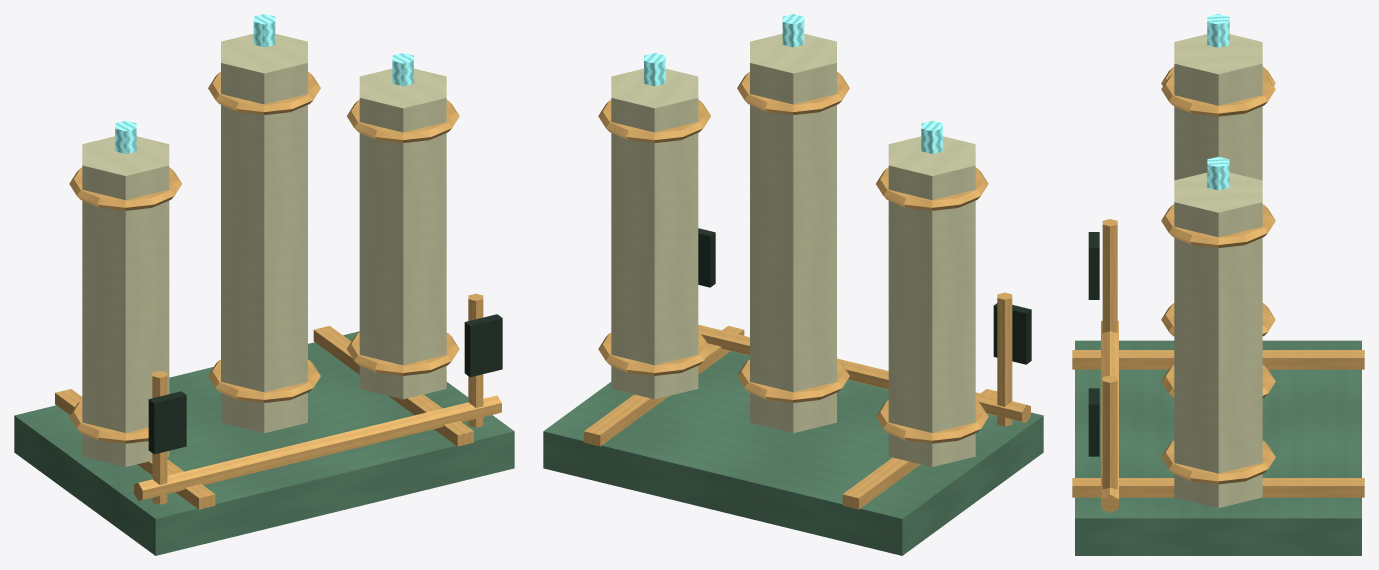
The model's file is atlas100-s001-a01.lod1.glb.
3 renders of one model, left to right at view 1: azimuth 30°, elevation 25°; view 2: azimuth 150°, elevation 25°; view 3: azimuth 270°, elevation 25°, orthographic.
Visible parts, largest first — view 1: atlas100-s001-a01:part-000, atlas100-s001-a01:part-007, atlas100-s001-a01:part-011, atlas100-s001-a01:part-003, atlas100-s001-a01:part-019, atlas100-s001-a01:part-002, atlas100-s001-a01:part-016, atlas100-s001-a01:part-018, atlas100-s001-a01:part-005, atlas100-s001-a01:part-013, atlas100-s001-a01:part-012, atlas100-s001-a01:part-009 (+8 smaller); view 2: atlas100-s001-a01:part-000, atlas100-s001-a01:part-007, atlas100-s001-a01:part-003, atlas100-s001-a01:part-011, atlas100-s001-a01:part-019, atlas100-s001-a01:part-002, atlas100-s001-a01:part-015, atlas100-s001-a01:part-001, atlas100-s001-a01:part-004, atlas100-s001-a01:part-005, atlas100-s001-a01:part-013, atlas100-s001-a01:part-012 (+7 smaller); view 3: atlas100-s001-a01:part-000, atlas100-s001-a01:part-011, atlas100-s001-a01:part-007, atlas100-s001-a01:part-002, atlas100-s001-a01:part-001, atlas100-s001-a01:part-017, atlas100-s001-a01:part-015, atlas100-s001-a01:part-009, atlas100-s001-a01:part-012, atlas100-s001-a01:part-013, atlas100-s001-a01:part-019, atlas100-s001-a01:part-018 (+5 smaller).
Boxes of the visible parts, <box> form: atlas100-s001-a01:part-000: <box>14,331,514,555</box>; atlas100-s001-a01:part-007: <box>221,33,307,433</box>; atlas100-s001-a01:part-011: <box>359,68,446,399</box>; atlas100-s001-a01:part-003: <box>82,136,169,466</box>; atlas100-s001-a01:part-019: <box>134,395,501,501</box>; atlas100-s001-a01:part-002: <box>313,326,473,446</box>; atlas100-s001-a01:part-016: <box>148,391,186,454</box>; atlas100-s001-a01:part-018: <box>464,314,502,377</box>; atlas100-s001-a01:part-005: <box>69,167,181,210</box>; atlas100-s001-a01:part-013: <box>347,100,459,142</box>; atlas100-s001-a01:part-012: <box>347,332,459,375</box>; atlas100-s001-a01:part-009: <box>208,72,320,114</box>; atlas100-s001-a01:part-000: <box>543,351,1043,555</box>; atlas100-s001-a01:part-007: <box>750,33,836,433</box>; atlas100-s001-a01:part-003: <box>888,136,975,466</box>; atlas100-s001-a01:part-011: <box>611,68,698,399</box>; atlas100-s001-a01:part-019: <box>698,324,1030,422</box>; atlas100-s001-a01:part-002: <box>584,326,744,446</box>; atlas100-s001-a01:part-015: <box>997,292,1012,426</box>; atlas100-s001-a01:part-001: <box>842,389,997,509</box>; atlas100-s001-a01:part-004: <box>876,400,988,443</box>; atlas100-s001-a01:part-005: <box>876,167,988,210</box>; atlas100-s001-a01:part-013: <box>598,100,710,142</box>; atlas100-s001-a01:part-012: <box>598,332,710,375</box>; atlas100-s001-a01:part-000: <box>1075,340,1361,555</box>; atlas100-s001-a01:part-011: <box>1174,172,1262,507</box>; atlas100-s001-a01:part-007: <box>1174,34,1262,180</box>; atlas100-s001-a01:part-002: <box>1072,478,1364,497</box>; atlas100-s001-a01:part-001: <box>1072,350,1364,369</box>; atlas100-s001-a01:part-017: <box>1102,375,1117,489</box>; atlas100-s001-a01:part-015: <box>1102,219,1117,332</box>; atlas100-s001-a01:part-009: <box>1161,73,1275,116</box>; atlas100-s001-a01:part-012: <box>1161,440,1275,484</box>; atlas100-s001-a01:part-013: <box>1161,204,1275,247</box>; atlas100-s001-a01:part-019: <box>1101,321,1118,513</box>; atlas100-s001-a01:part-018: <box>1088,388,1099,456</box>.
Bounding box in the file's own units: 2.76 × 3.1 × 1.84.
5 materials, 5 textured.
